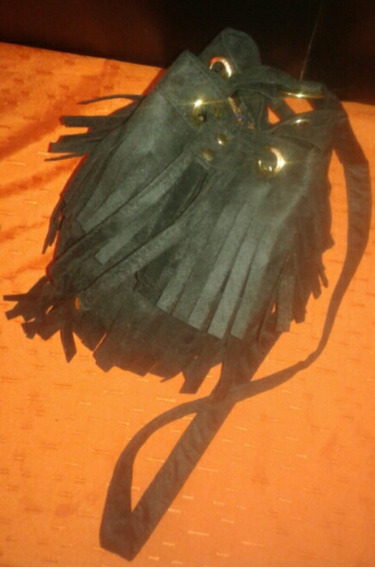cartera: (47, 26, 375, 376)
